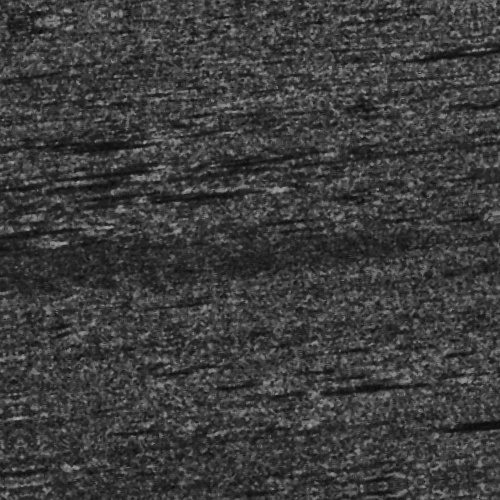object: (46, 201, 119, 212), (262, 185, 315, 192), (23, 215, 76, 220), (148, 124, 179, 131), (398, 498, 429, 500)
shadow: (0, 201, 82, 212), (168, 185, 288, 192), (438, 441, 500, 452), (457, 70, 500, 83), (100, 124, 163, 131), (0, 215, 50, 220), (309, 498, 413, 500)
